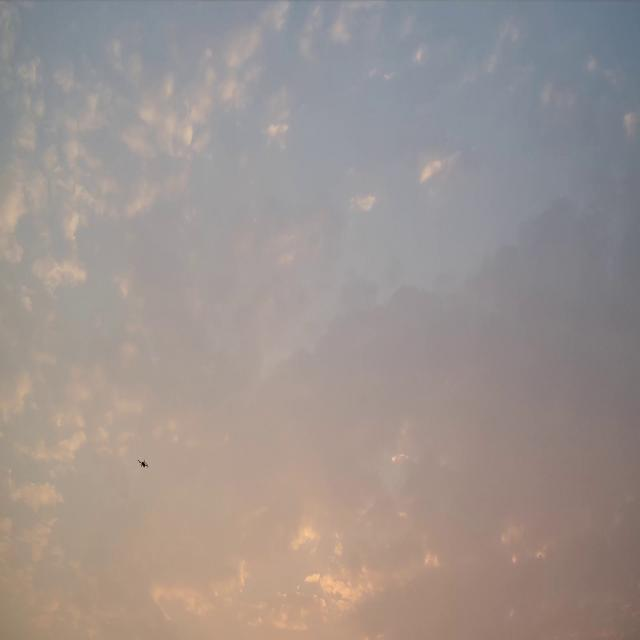drone: (137, 459, 149, 468)
